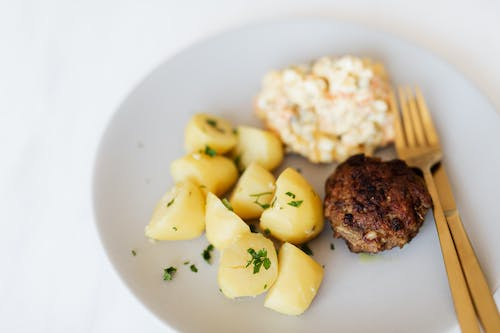knife: (430, 159, 500, 333)
